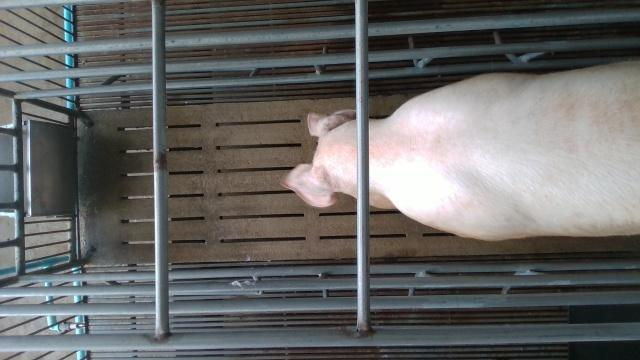sow-stand: (280, 59, 640, 239)
